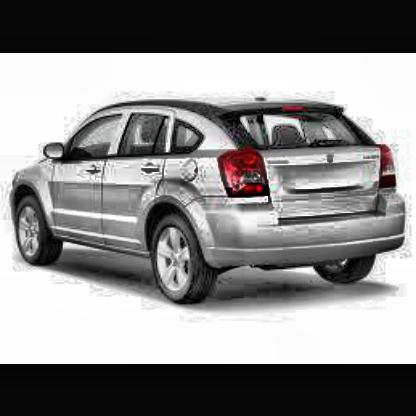Dodge Caliber Wagon 2012: (9, 88, 413, 308)
